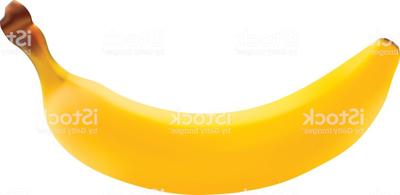banana: (0, 0, 400, 195)
